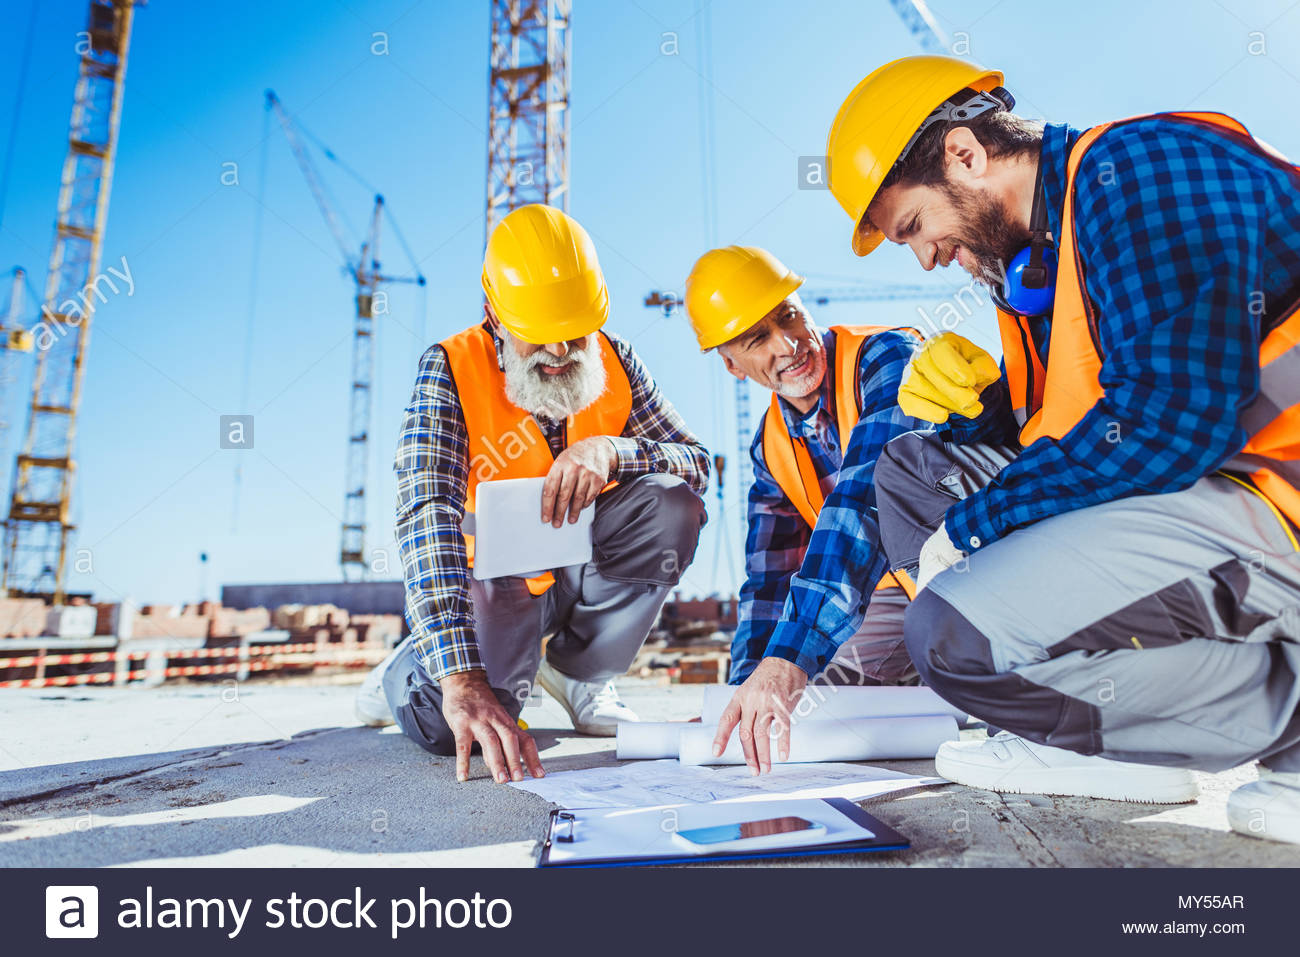With Helmet: (814, 51, 1058, 275), (474, 197, 619, 422), (684, 242, 835, 417)
